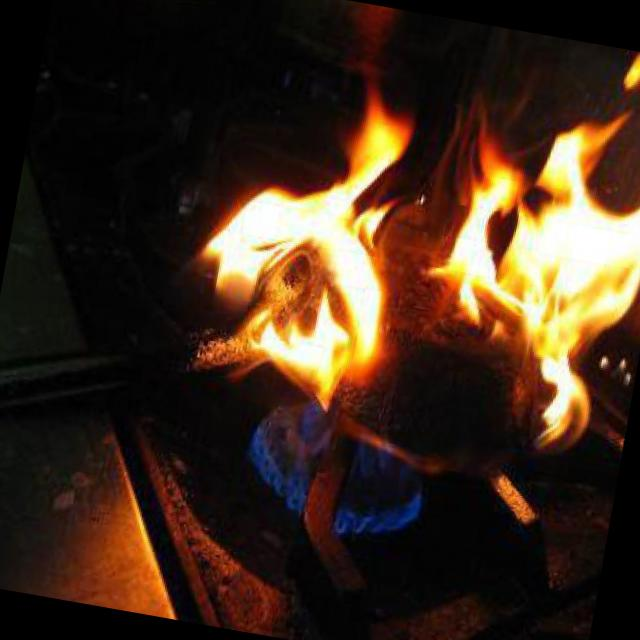fire: (154, 0, 640, 487)
